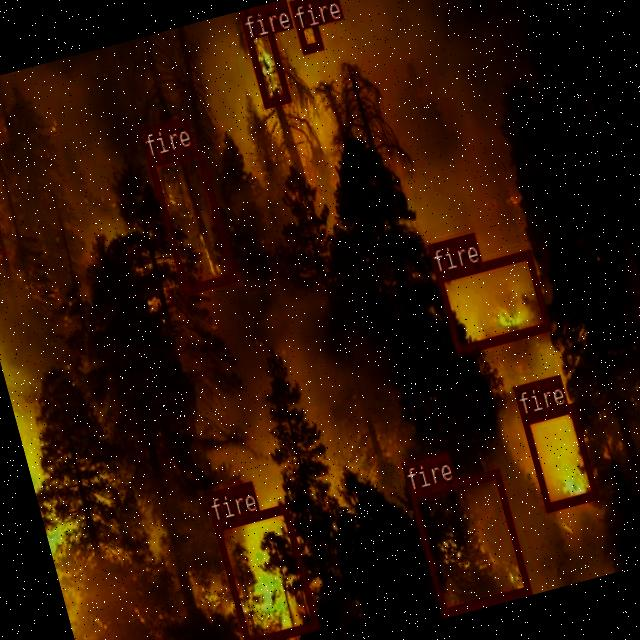fire: (408, 468, 530, 615), (211, 503, 318, 640), (146, 144, 236, 294), (434, 248, 550, 352), (520, 401, 598, 511), (238, 4, 289, 106), (288, 0, 322, 52)
